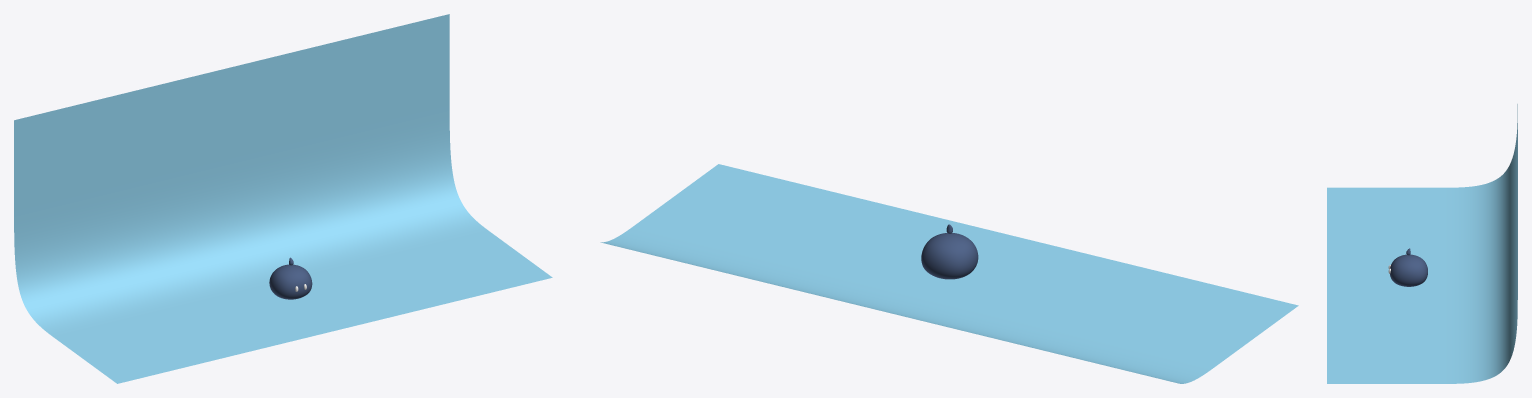
File: mochiwall.glb
3 views of the same model, side by side, from view 1: azimuth 30°, elevation 25°; view 2: azimuth 150°, elevation 25°; view 3: azimuth 270°, elevation 25° (orthographic). The views are drawn at different scales.
Parts seen in each view (by area): view 1: bg_wall:pCube1, mochi_hipoly; view 2: bg_wall:pCube1, mochi_hipoly; view 3: bg_wall:pCube1, mochi_hipoly.
Part boxes in pixels (x1,y1,x2,y2): bg_wall:pCube1: (14, 14, 552, 383); mochi_hipoly: (269, 257, 312, 299); bg_wall:pCube1: (600, 164, 1298, 383); mochi_hipoly: (921, 224, 978, 279); bg_wall:pCube1: (1327, 104, 1517, 383); mochi_hipoly: (1388, 248, 1427, 286).
Size of the model in its own units: 2.09 by 0.8614 by 0.8569.
